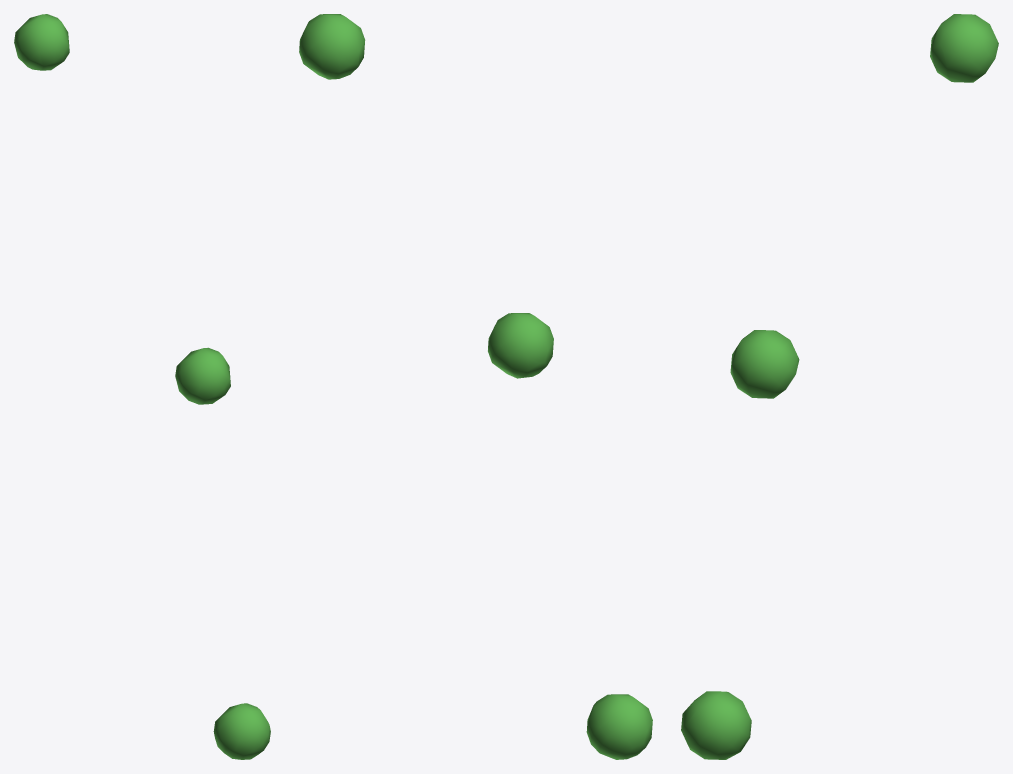
File: linfatico-left-colic-nodes.glb
3 views of the same model, side by side, from view 1: azimuth 90°, elevation 25°; view 2: azimuth 150°, elevation 25°; view 3: azimuth 270°, elevation 25° (orthographic). The views are drawn at different scales.
Visible parts, largest first — view 1: Left colic nodes; view 2: Left colic nodes; view 3: Left colic nodes.
Boxes of the visible parts, x1,y1,x2,y2 form: Left colic nodes: (14, 14, 270, 759); Left colic nodes: (299, 14, 652, 759); Left colic nodes: (681, 14, 998, 759).
Size of the model in its own units: 0.0101 by 0.0331 by 0.0115.
